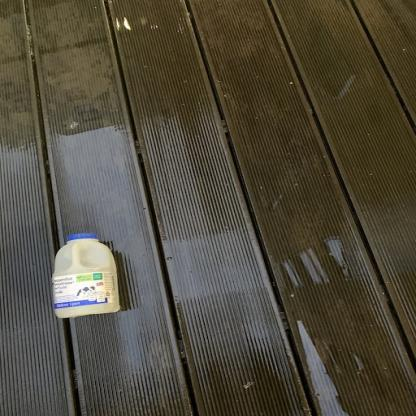trash: (50, 232, 122, 320)
